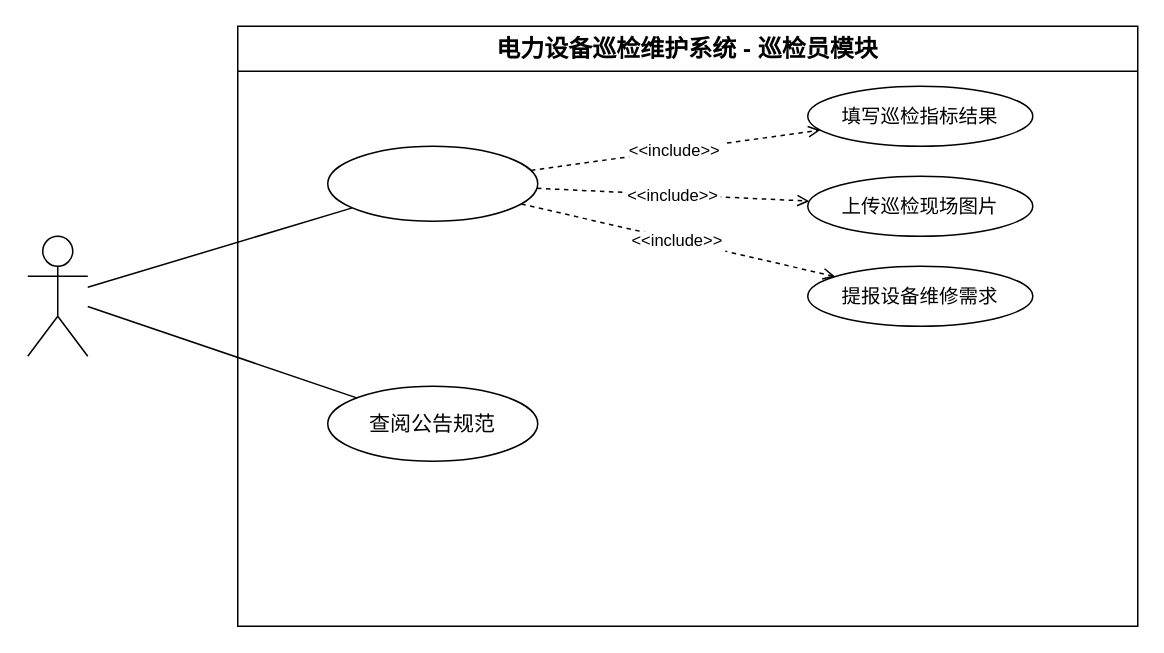
Image size: 1164x653. Some labels were removed from this diagram. The centre of each missing label's shape, as x and y in pixels:
巡检员: pixel 57 295
执行巡检任务: pixel 432 183
